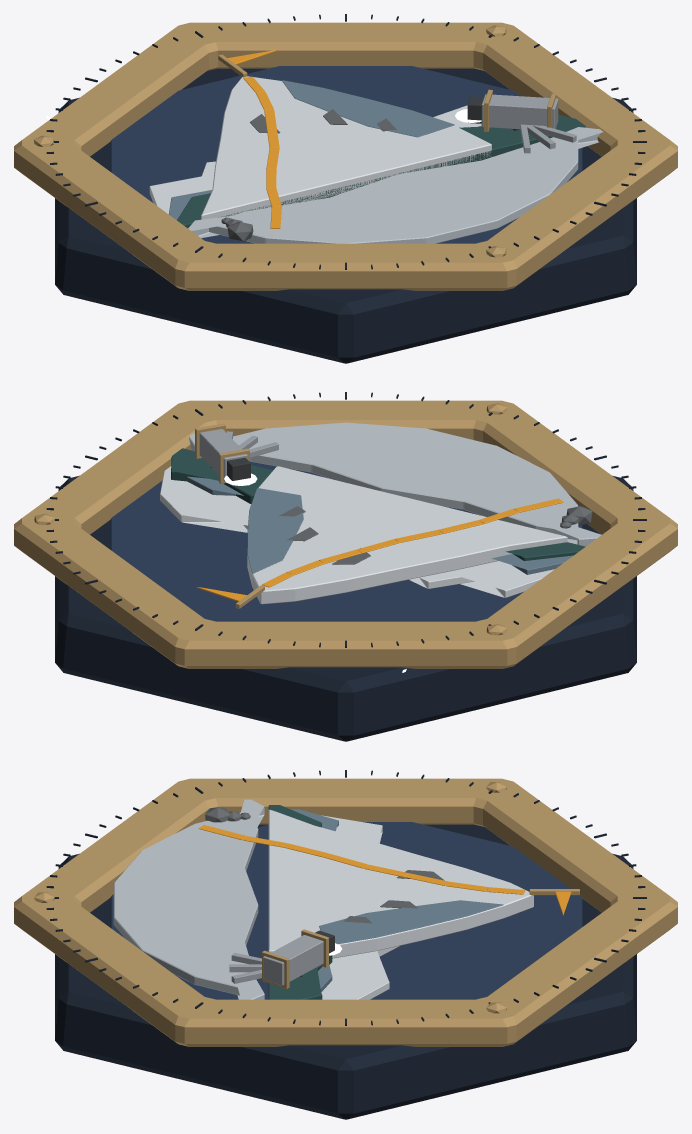
File: peak_scout.glb
3 renders of one model, top to bottom at view 1: azimuth 30°, elevation 25°; view 2: azimuth 150°, elevation 25°; view 3: azimuth 270°, elevation 25°, orthographic.
Visible parts, largest first — view 1: BG_FrameRing, BG_BasePlate, PS_SnowField, PS_Peak, BG_Field, PS_ShadeFacet, PS_Ridge, PS_ScopeTube, PS_FarRange, PS_Route, BG_TickScale, PS_Tripod (+3 smaller); view 2: BG_FrameRing, BG_BasePlate, PS_Peak, PS_SnowField, BG_Field, PS_FarRange, PS_ShadeFacet, PS_Ridge, PS_Route, PS_FarShade, BG_TickScale, PS_ScopeTube (+4 smaller); view 3: BG_FrameRing, BG_BasePlate, BG_Field, PS_SnowField, PS_Peak, PS_ShadeFacet, PS_FarRange, PS_Route, PS_ScopeTube, PS_Ridge, BG_TickScale, PS_Tripod (+4 smaller).
Part boxes in pixels (left/top/right/bottom): BG_FrameRing: left=14, top=22, right=677, bottom=290; BG_BasePlate: left=55, top=68, right=636, bottom=363; PS_SnowField: left=188, top=127, right=602, bottom=243; PS_Peak: left=201, top=76, right=491, bottom=219; BG_Field: left=109, top=66, right=582, bottom=243; PS_ShadeFacet: left=281, top=80, right=454, bottom=137; PS_Ridge: left=177, top=114, right=585, bottom=228; PS_ScopeTube: left=481, top=94, right=558, bottom=129; PS_FarRange: left=149, top=105, right=481, bottom=214; PS_Route: left=243, top=76, right=281, bottom=228; BG_TickScale: left=46, top=14, right=646, bottom=269; PS_Tripod: left=520, top=124, right=576, bottom=153; BG_FrameRing: left=14, top=400, right=677, bottom=668; BG_BasePlate: left=55, top=475, right=636, bottom=741; PS_Peak: left=247, top=466, right=567, bottom=604; PS_SnowField: left=189, top=422, right=601, bottom=546; BG_Field: left=109, top=461, right=582, bottom=621; PS_FarRange: left=160, top=466, right=554, bottom=597; PS_ShadeFacet: left=247, top=488, right=303, bottom=573; PS_Ridge: left=171, top=448, right=585, bottom=560; PS_Route: left=262, top=498, right=563, bottom=587; PS_FarShade: left=186, top=476, right=572, bottom=574; BG_TickScale: left=46, top=392, right=646, bottom=647; PS_ScopeTube: left=199, top=429, right=247, bottom=480; BG_FrameRing: left=14, top=778, right=677, bottom=1046; BG_BasePlate: left=55, top=824, right=636, bottom=1119; BG_Field: left=109, top=822, right=582, bottom=999; PS_SnowField: left=113, top=799, right=264, bottom=999; PS_Peak: left=268, top=809, right=533, bottom=958; PS_ShadeFacet: left=319, top=900, right=503, bottom=943; PS_FarRange: left=321, top=815, right=399, bottom=999; PS_Route: left=198, top=825, right=525, bottom=894; PS_ScopeTube: left=263, top=935, right=323, bottom=985; PS_Ridge: left=268, top=805, right=332, bottom=999; BG_TickScale: left=46, top=770, right=646, bottom=1025; PS_Tripod: left=229, top=953, right=261, bottom=983.
Size of the model in its own units: 0.0393 by 0.0072 by 0.0394.
